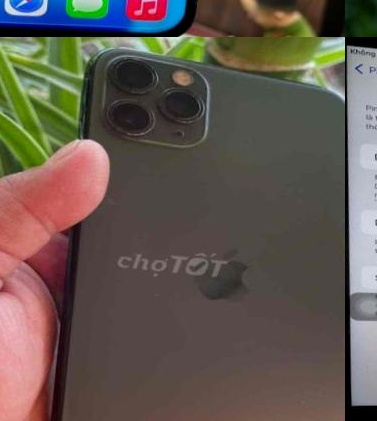scratch: (345, 37, 377, 421), (62, 50, 111, 100), (234, 117, 278, 150), (181, 66, 219, 94)
